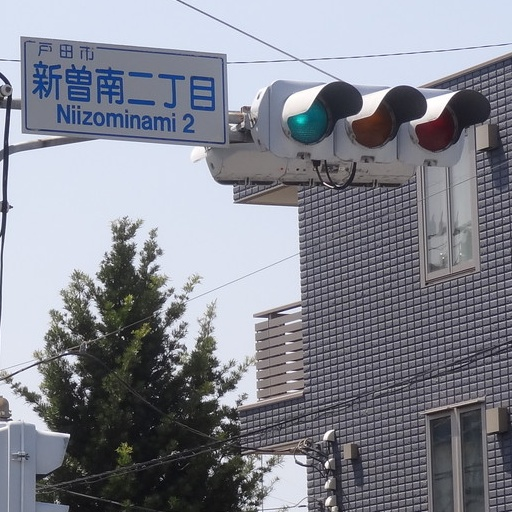Traffic_Signal_Blue: (276, 82, 478, 162)
